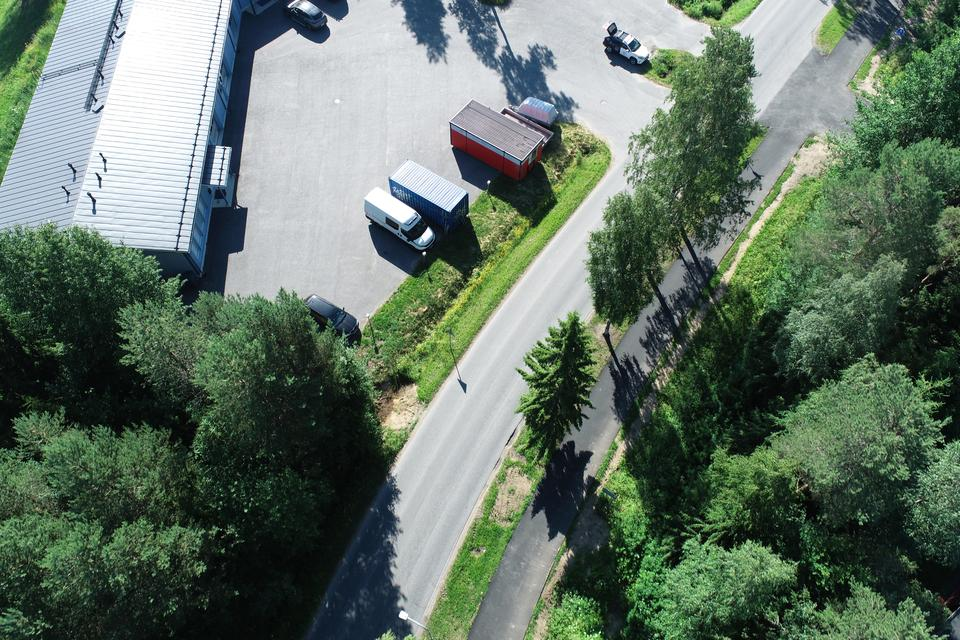intersection: (659, 0, 898, 167)
